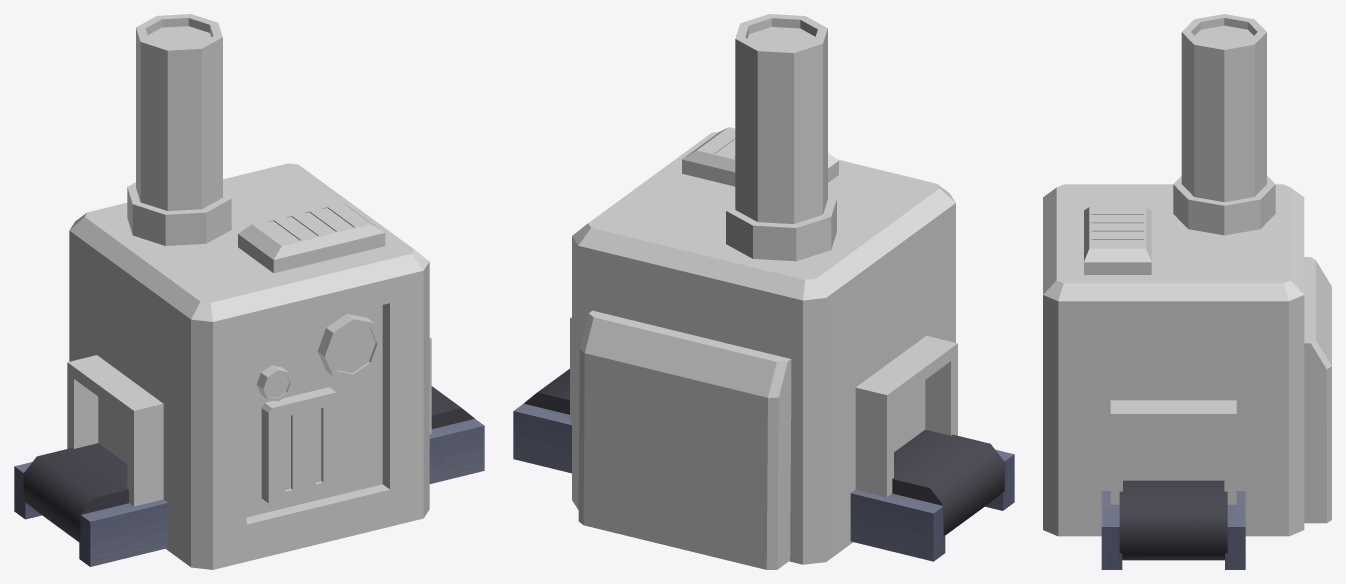
Rendered from Furnace.glb.
3 views of the same model, side by side, from view 1: azimuth 30°, elevation 25°; view 2: azimuth 150°, elevation 25°; view 3: azimuth 270°, elevation 25° (orthographic). The views are drawn at different scales.
Visible parts, largest first — view 1: Cube.004, Cylinder, Cube.006, Cube, conveyor, Cube.002, Cube.003, Cylinder.001, Cube.005, conveyor.001, Cylinder.002; view 2: Cube.004, Cube.001, Cylinder, Cube.006, conveyor, Cube.003, Cube.005, Cube.002, conveyor.001; view 3: Cube.004, Cylinder, Cube.006, conveyor.001, Cube.001, Cube.002, Cube.005.
Boxes of the visible parts, x1,y1,x2,y2 form: Cube.004: (69, 163, 429, 569); Cylinder: (127, 14, 231, 245); Cube.006: (67, 337, 431, 506); Cube: (261, 387, 339, 506); conveyor: (23, 443, 128, 542); Cube.002: (238, 202, 385, 273); Cube.003: (14, 462, 168, 566); Cylinder.001: (317, 314, 382, 379); Cube.005: (429, 419, 484, 483); conveyor.001: (431, 386, 474, 428); Cylinder.002: (256, 365, 292, 401); Cube.004: (572, 132, 955, 564); Cube.001: (578, 310, 791, 569); Cylinder: (726, 14, 836, 261); Cube.006: (570, 316, 957, 496); conveyor: (892, 429, 1004, 535); Cube.003: (850, 449, 1014, 561); Cube.005: (513, 403, 571, 473); Cube.002: (682, 127, 838, 186); conveyor.001: (524, 369, 569, 414); Cube.004: (1043, 184, 1304, 536); Cylinder: (1173, 14, 1275, 235); Cube.006: (1110, 400, 1236, 504); conveyor.001: (1119, 480, 1227, 560); Cube.001: (1304, 257, 1331, 523); Cube.002: (1084, 207, 1151, 274); Cube.005: (1101, 491, 1245, 569).
Size of the model in its own units: 3 by 3.29 by 2.
2 materials, 2 textured.
